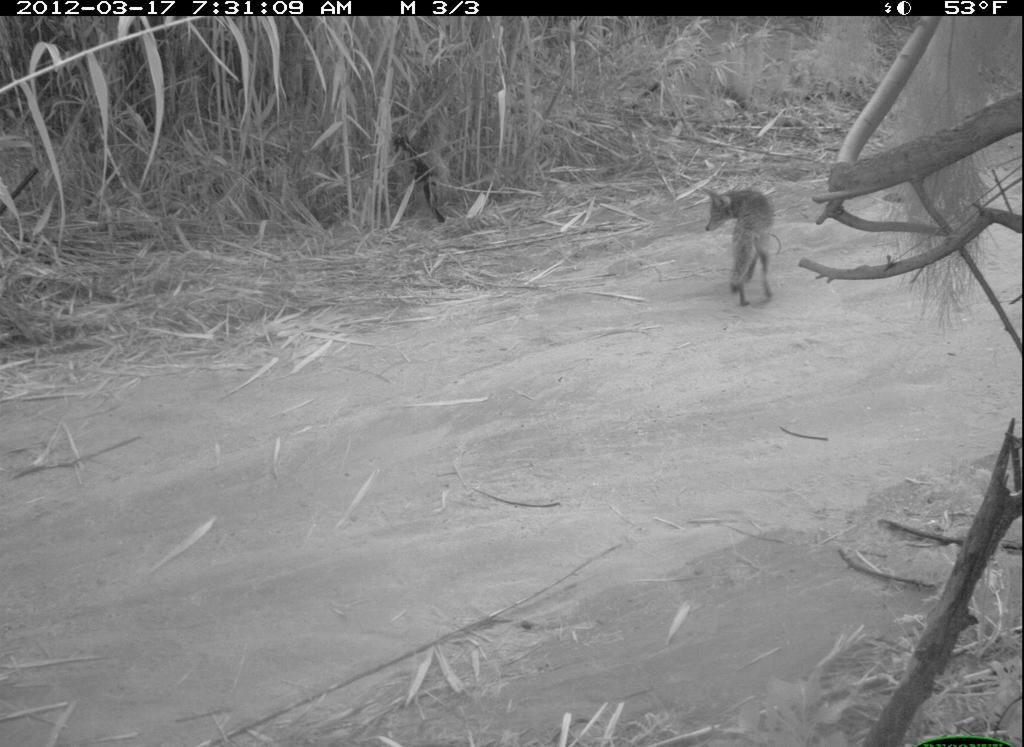coyote: (701, 171, 784, 318)
